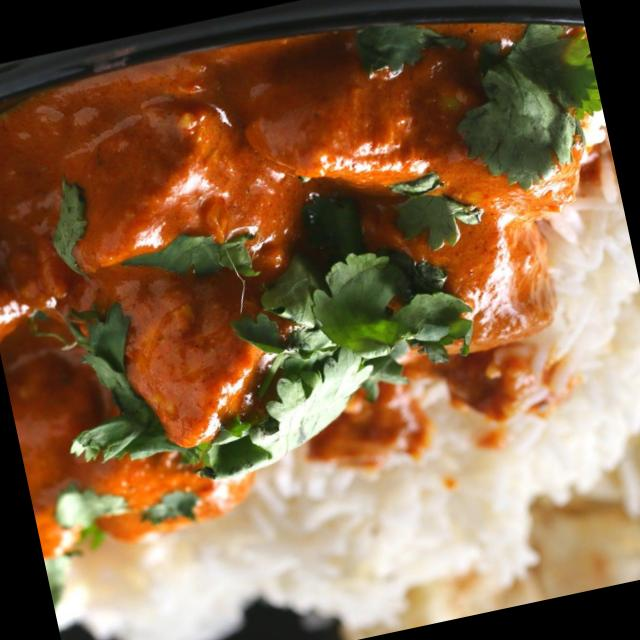chicken: (0, 5, 550, 529)
rice: (66, 453, 567, 640)
